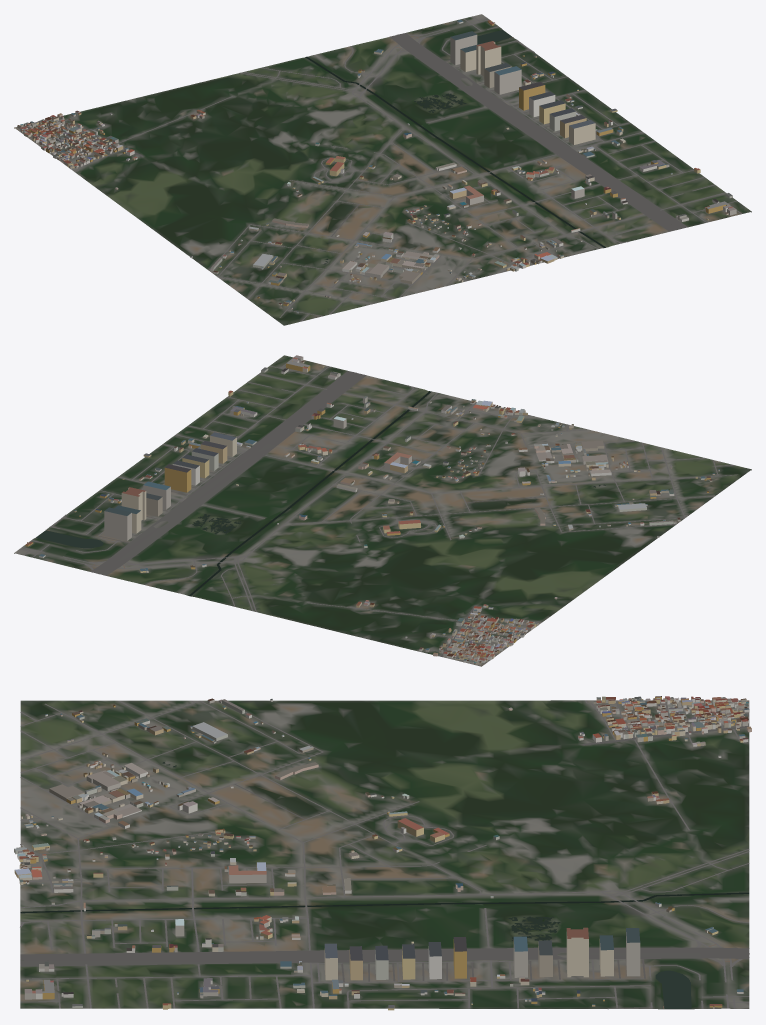
3 views of the same model, one above another, from view 1: azimuth 30°, elevation 25°; view 2: azimuth 150°, elevation 25°; view 3: azimuth 270°, elevation 25° (orthographic). The views are drawn at different scales.
Visible parts, largest first — view 1: ground, buildings, roads, water; view 2: ground, buildings, roads, water; view 3: ground, buildings, roads, water.
Boxes of the visible parts, left/top/right/bottom form: ground: left=14, top=14, right=751, bottom=325; buildings: left=17, top=20, right=736, bottom=313; roads: left=29, top=16, right=741, bottom=321; water: left=305, top=30, right=605, bottom=264; ground: left=14, top=355, right=751, bottom=666; buildings: left=25, top=355, right=719, bottom=665; roads: left=19, top=358, right=737, bottom=656; water: left=36, top=391, right=605, bottom=596; ground: left=20, top=700, right=749, bottom=1009; buildings: left=14, top=696, right=751, bottom=1010; roads: left=20, top=700, right=749, bottom=1009; water: left=20, top=762, right=749, bottom=1008.
Size of the model in its own units: 1412 by 85.54 by 1420.
